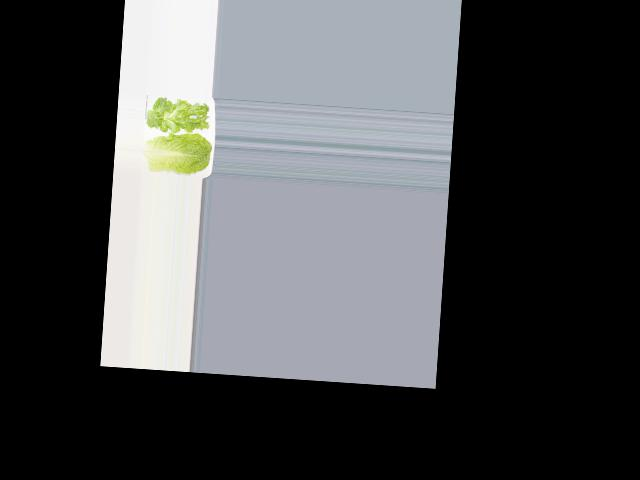lettuce: (148, 92, 211, 133)
